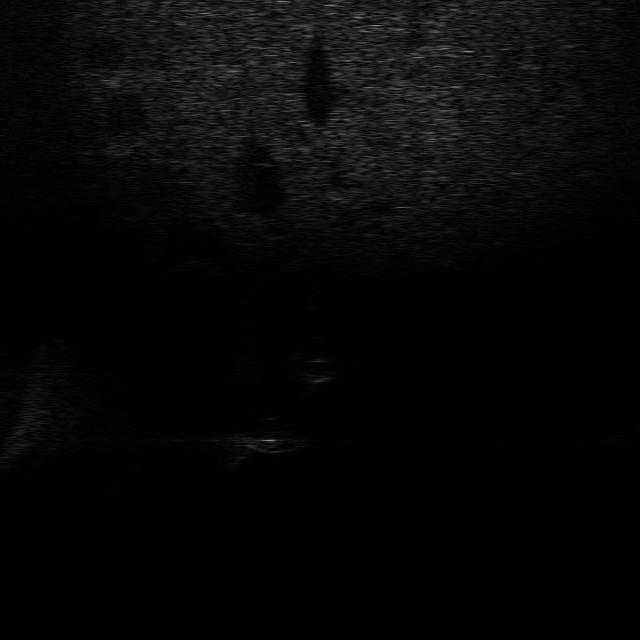ball: (291, 352, 340, 387)
square cage: (225, 422, 313, 456)
